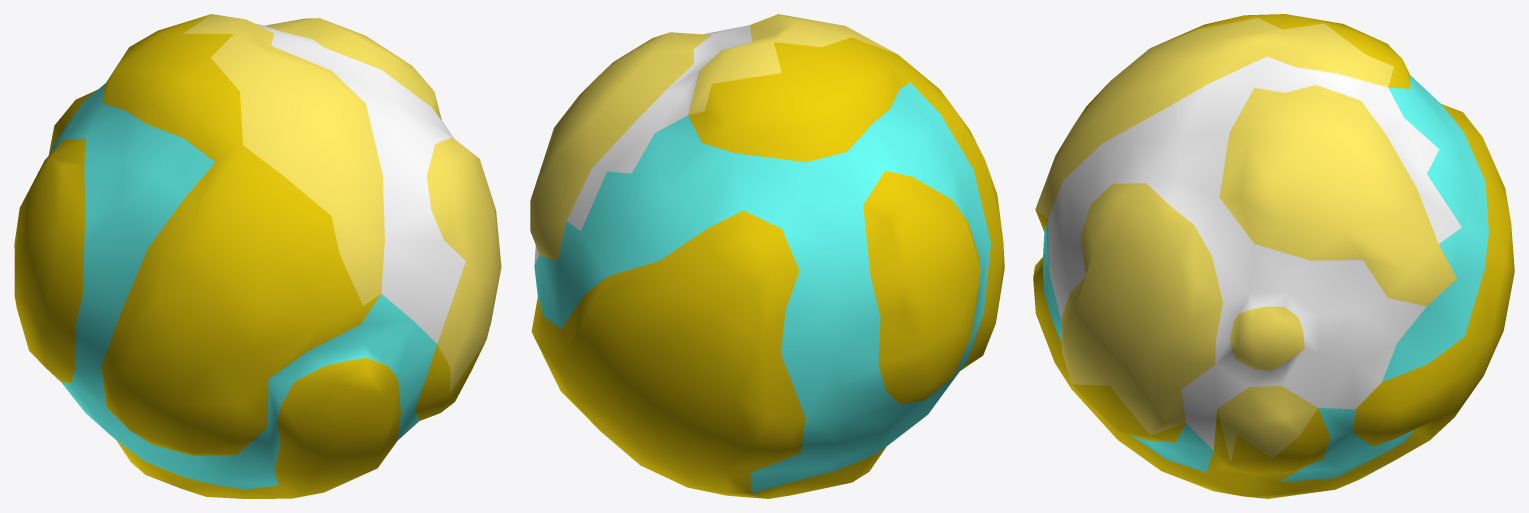
File: Planet_A_003.fbx
The picture shows the model from 3 angles, left to right: view 1: azimuth 30°, elevation 25°; view 2: azimuth 150°, elevation 25°; view 3: azimuth 270°, elevation 25°; orthographic projection.
Visible parts, largest first — view 1: cloud:cloud:Planet_A_003; view 2: cloud:cloud:Planet_A_003; view 3: cloud:cloud:Planet_A_003.
Part boxes in pixels (<box>): cloud:cloud:Planet_A_003: <box>14,14,501,498</box>; cloud:cloud:Planet_A_003: <box>530,14,1004,498</box>; cloud:cloud:Planet_A_003: <box>1033,14,1514,498</box>.
Bounding box in the file's own units: 577 × 577 × 573.
